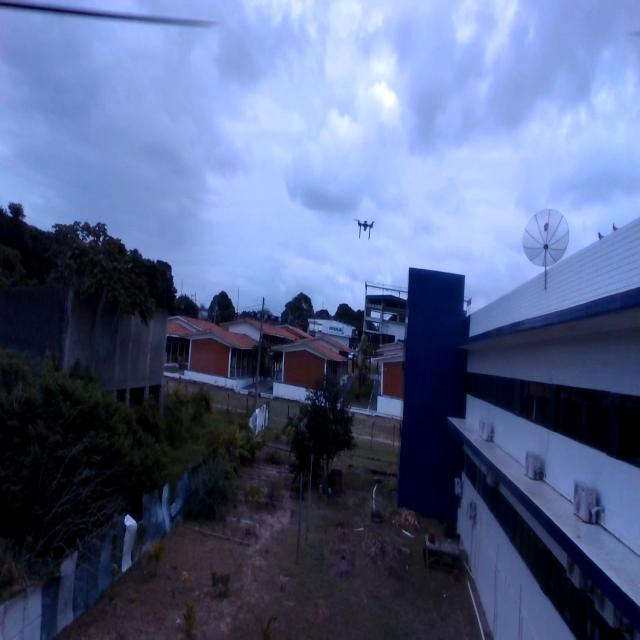-uav-: (348, 200, 384, 253)
